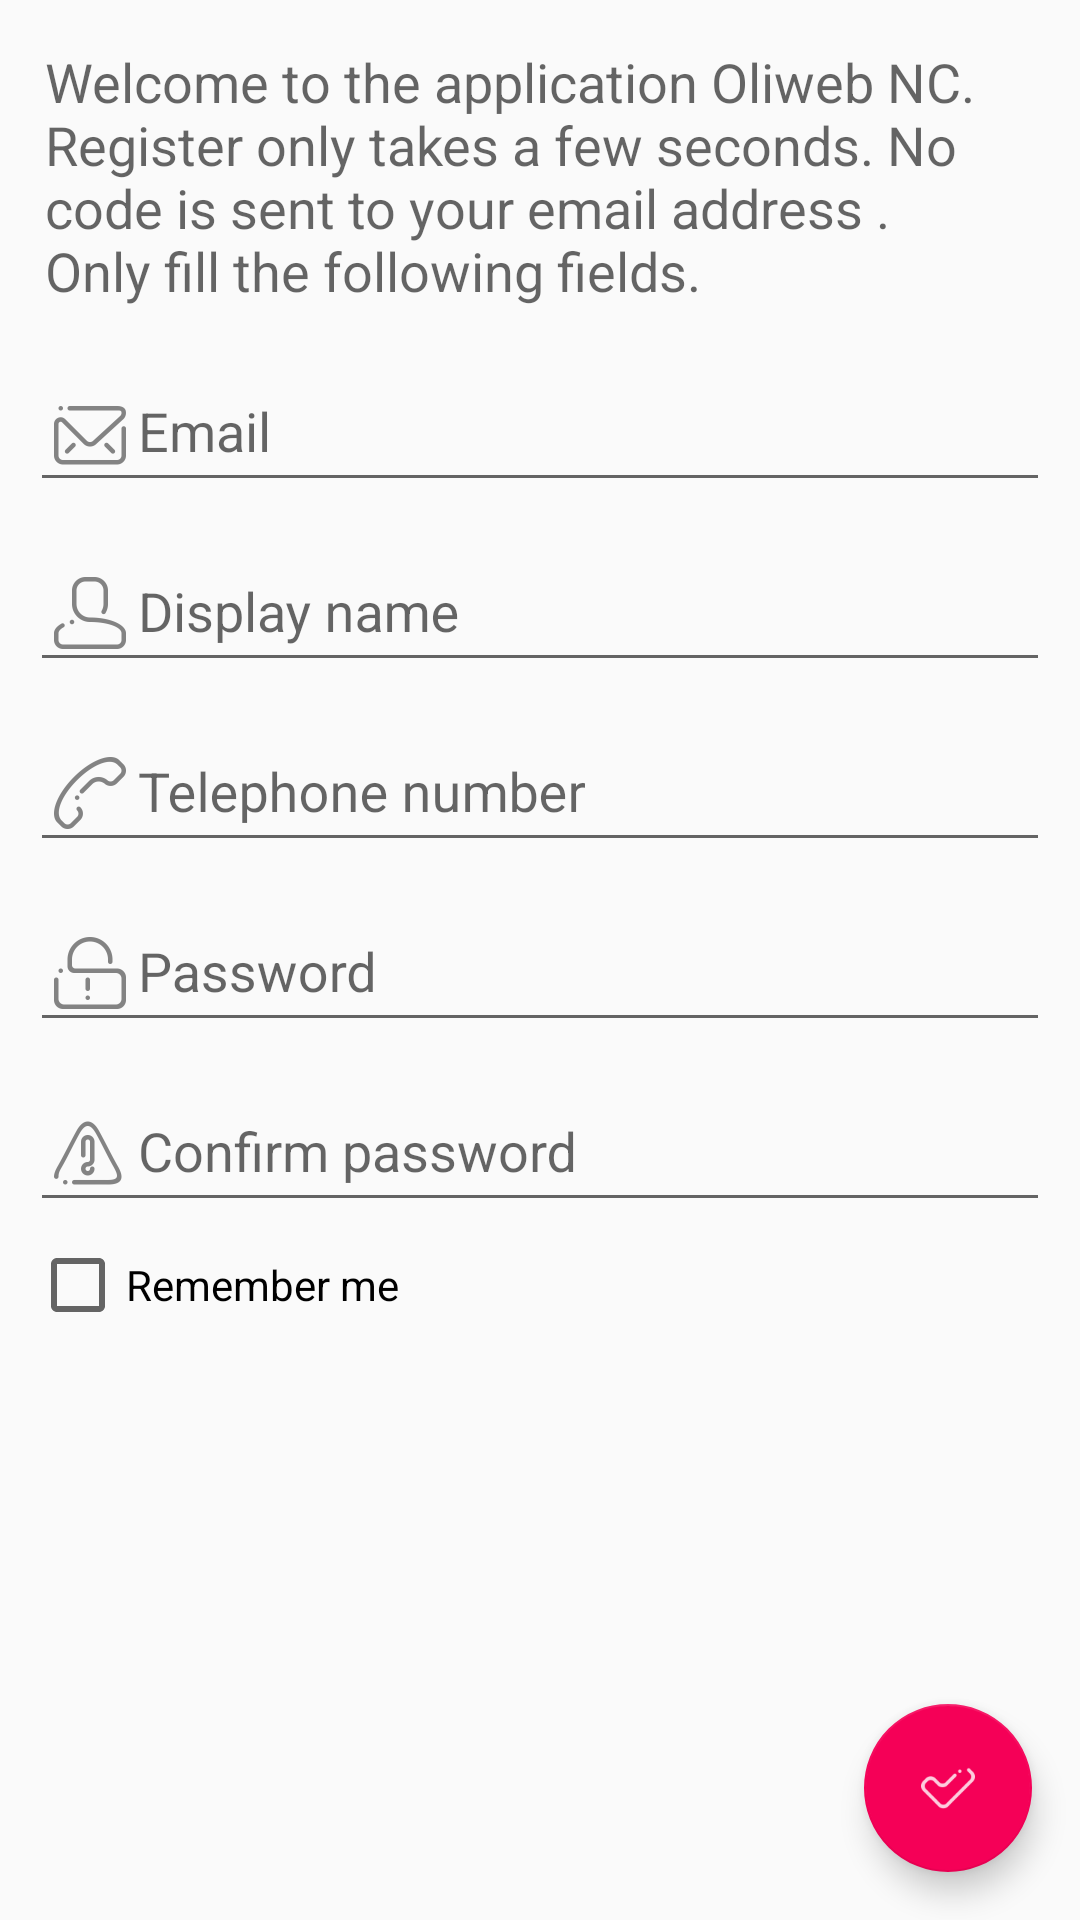

Screen size 1080px x 1920px. Icon name, then its box in pixels as (x1, y1, x2, y2):
accept: (864, 1704, 1032, 1872)
